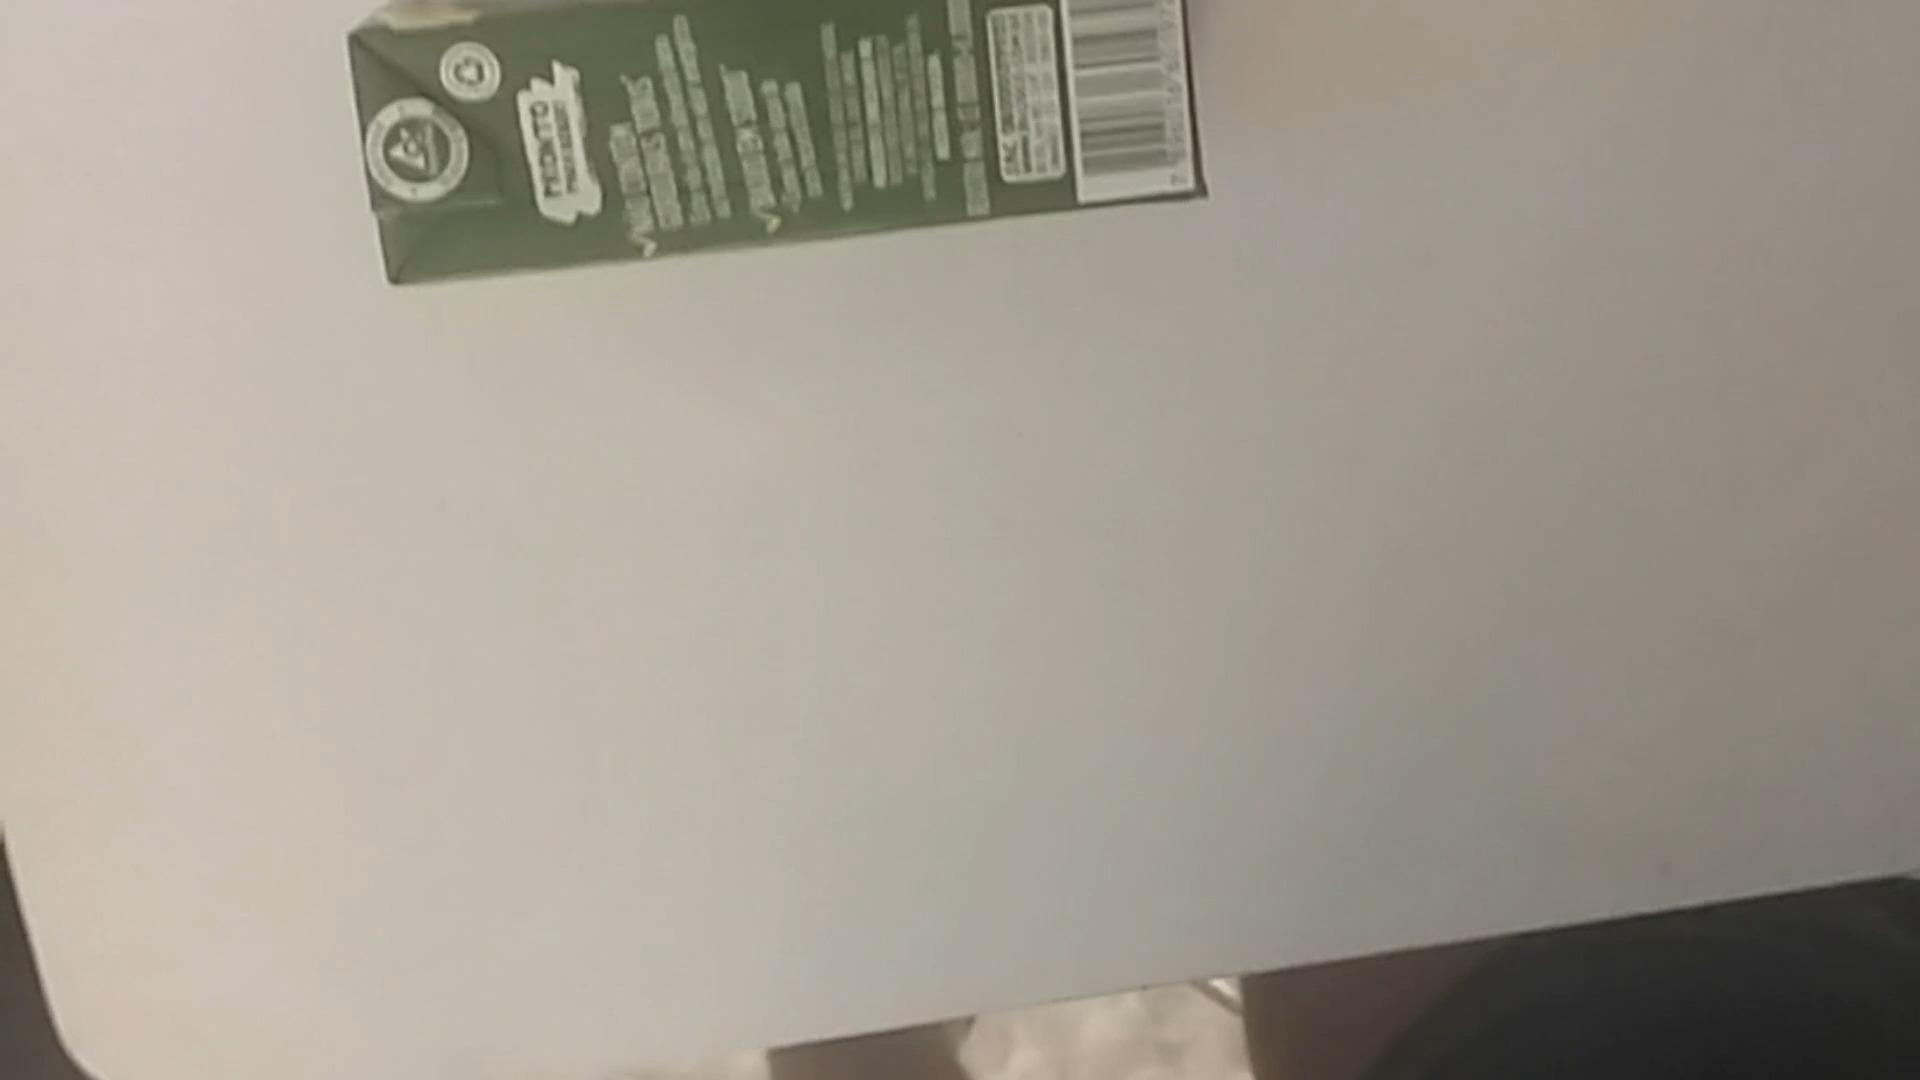coco: (340, 0, 1233, 315)
